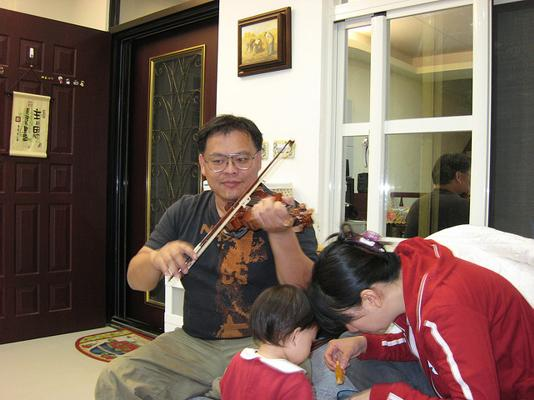person: (96, 114, 321, 400)
